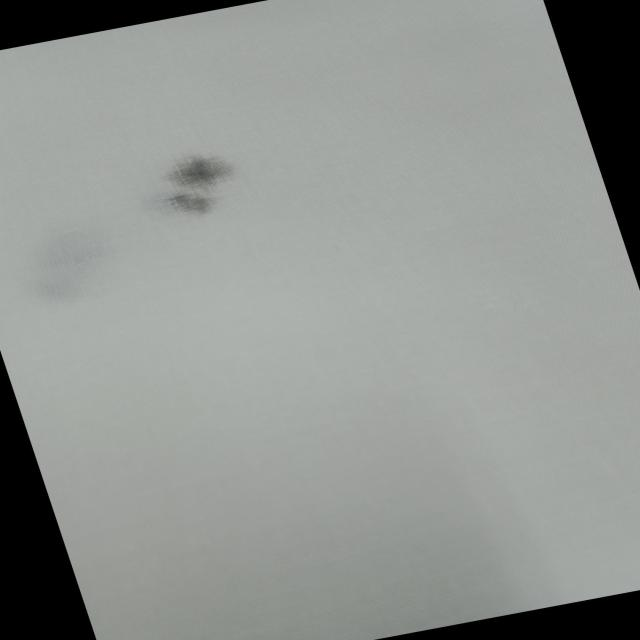stain: (15, 222, 134, 310), (141, 139, 259, 227)
